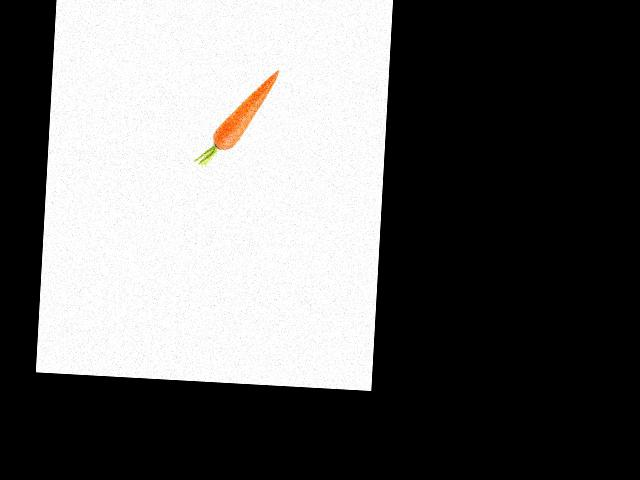carrot: (211, 65, 281, 155)
